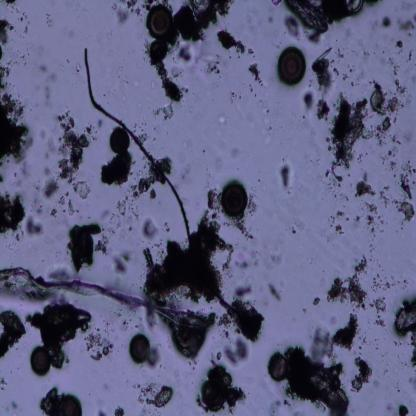Background material: (144, 220, 232, 292), (26, 301, 90, 367), (172, 0, 237, 46), (196, 358, 247, 414), (326, 252, 372, 309), (224, 285, 266, 345), (55, 109, 90, 180), (0, 93, 33, 164), (93, 198, 131, 251), (285, 343, 314, 401), (394, 293, 416, 364), (149, 61, 184, 105), (307, 323, 339, 368), (324, 41, 358, 83), (98, 151, 134, 188), (217, 337, 252, 369), (331, 310, 359, 350), (104, 0, 148, 25), (132, 383, 174, 409), (0, 311, 26, 353), (34, 54, 57, 100), (84, 330, 115, 364), (368, 264, 404, 292), (48, 189, 78, 219), (5, 0, 30, 36), (350, 354, 372, 394), (329, 204, 353, 239), (234, 249, 266, 275), (216, 30, 247, 55), (22, 177, 43, 213), (364, 198, 382, 240), (368, 80, 388, 117), (133, 173, 158, 202), (385, 144, 405, 179), (382, 181, 400, 219), (370, 296, 390, 330), (389, 78, 409, 112), (203, 191, 226, 220), (111, 251, 136, 277), (398, 162, 414, 202), (374, 114, 392, 148), (264, 395, 292, 416), (398, 196, 416, 227), (173, 40, 194, 65), (248, 62, 266, 90), (384, 48, 401, 75), (0, 19, 10, 62), (0, 194, 11, 231), (356, 180, 377, 199), (25, 216, 44, 237), (392, 16, 414, 34), (315, 100, 331, 124), (42, 177, 60, 198), (362, 36, 376, 62), (73, 180, 90, 201), (204, 63, 225, 79), (280, 163, 292, 188), (43, 10, 59, 28), (265, 282, 283, 298), (143, 220, 159, 238), (6, 397, 21, 416), (0, 64, 10, 92), (304, 90, 315, 112), (163, 103, 176, 121), (227, 89, 239, 107), (239, 226, 254, 240), (403, 47, 416, 63), (391, 39, 405, 53), (110, 404, 126, 416), (0, 374, 9, 394), (228, 145, 240, 158), (381, 16, 391, 30), (96, 407, 110, 416), (290, 225, 300, 237), (275, 258, 283, 270), (312, 295, 322, 304)
Cellulose filter fibre: (0, 260, 216, 330), (272, 1, 336, 33)
Diatom: (330, 92, 373, 185), (310, 365, 352, 410), (276, 46, 306, 85), (219, 180, 247, 221), (146, 4, 173, 41), (128, 334, 152, 363), (72, 232, 95, 260), (267, 351, 289, 380), (30, 346, 52, 375), (109, 126, 130, 154), (58, 392, 83, 414), (150, 41, 168, 60), (10, 202, 26, 223), (344, 0, 364, 12), (314, 60, 328, 76), (398, 404, 409, 416)
